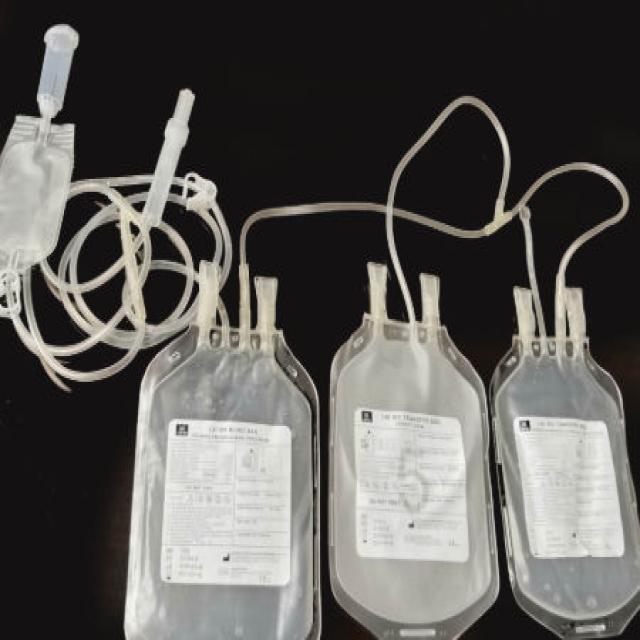B3: (111, 277, 335, 640)
